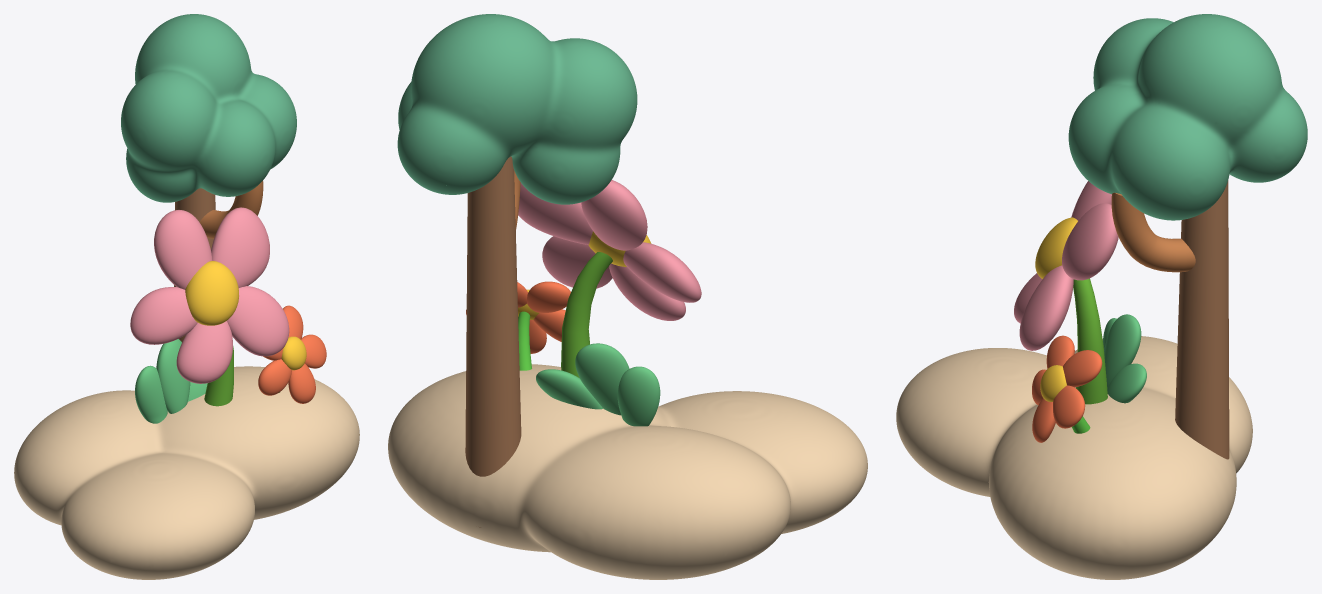
3 renders of one model, left to right at view 1: azimuth 30°, elevation 25°; view 2: azimuth 150°, elevation 25°; view 3: azimuth 270°, elevation 25°, orthographic. The views are drawn at different scales.
Visible parts, largest first — view 1: 空白, 空白_2_2, 空白_1, 空白_2; view 2: 空白, 空白_2_2, 空白_2, 空白_1; view 3: 空白, 空白_2_2, 空白_1, 空白_2.
Part boxes in pixels (x1,y1,x2,y2): 空白: [14, 14, 359, 579]; 空白_2_2: [130, 207, 289, 406]; 空白_1: [258, 305, 326, 403]; 空白_2: [135, 339, 207, 423]; 空白: [388, 14, 867, 579]; 空白_2_2: [518, 180, 701, 377]; 空白_2: [536, 343, 660, 426]; 空白_1: [466, 281, 570, 370]; 空白: [896, 14, 1307, 579]; 空白_2_2: [1014, 181, 1118, 404]; 空白_1: [1032, 335, 1102, 442]; 空白_2: [1103, 314, 1146, 403].
Size of the model in its own units: 511 by 684 by 477.
